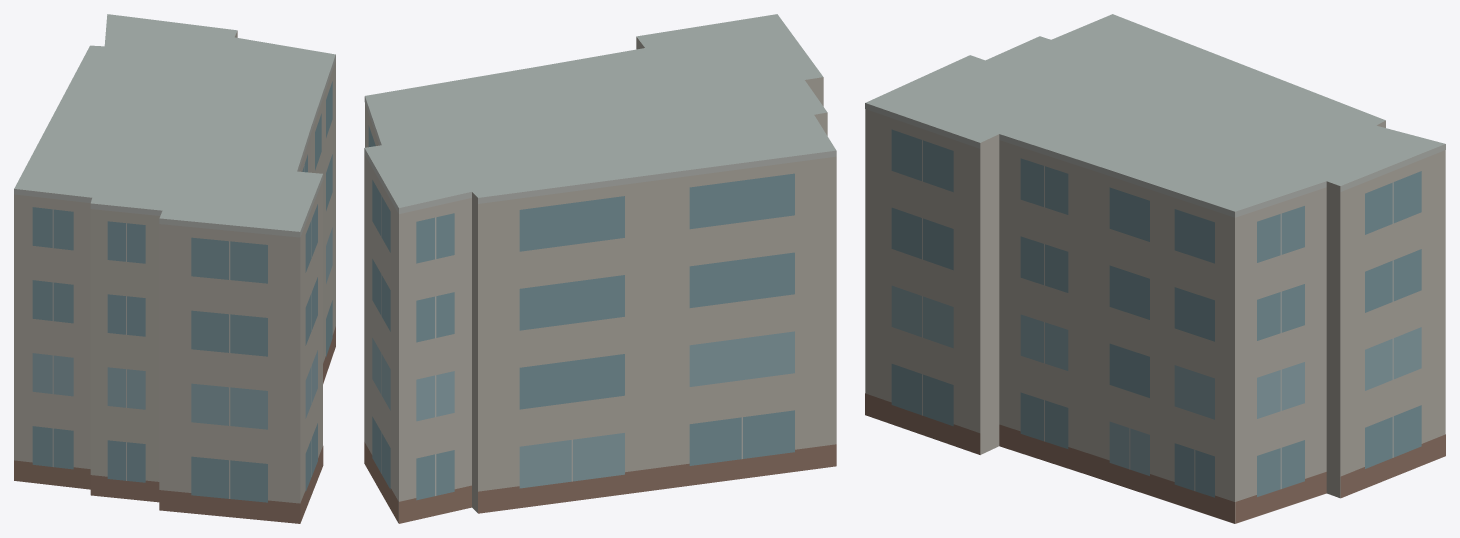
File: survey-upis-32942723.glb
The picture shows the model from 3 angles, left to right: view 1: azimuth 30°, elevation 25°; view 2: azimuth 150°, elevation 25°; view 3: azimuth 270°, elevation 25°; orthographic projection. The views are drawn at different scales.
Visible parts, largest first — view 1: survey-upis-32942723.tmp; view 2: survey-upis-32942723.tmp; view 3: survey-upis-32942723.tmp.
Boxes of the visible parts, <box> form: survey-upis-32942723.tmp: <box>14,14,335,523</box>; survey-upis-32942723.tmp: <box>364,14,836,523</box>; survey-upis-32942723.tmp: <box>865,14,1445,523</box>.
Bounding box in the file's own units: 17.26 × 12.7 × 21.41.
